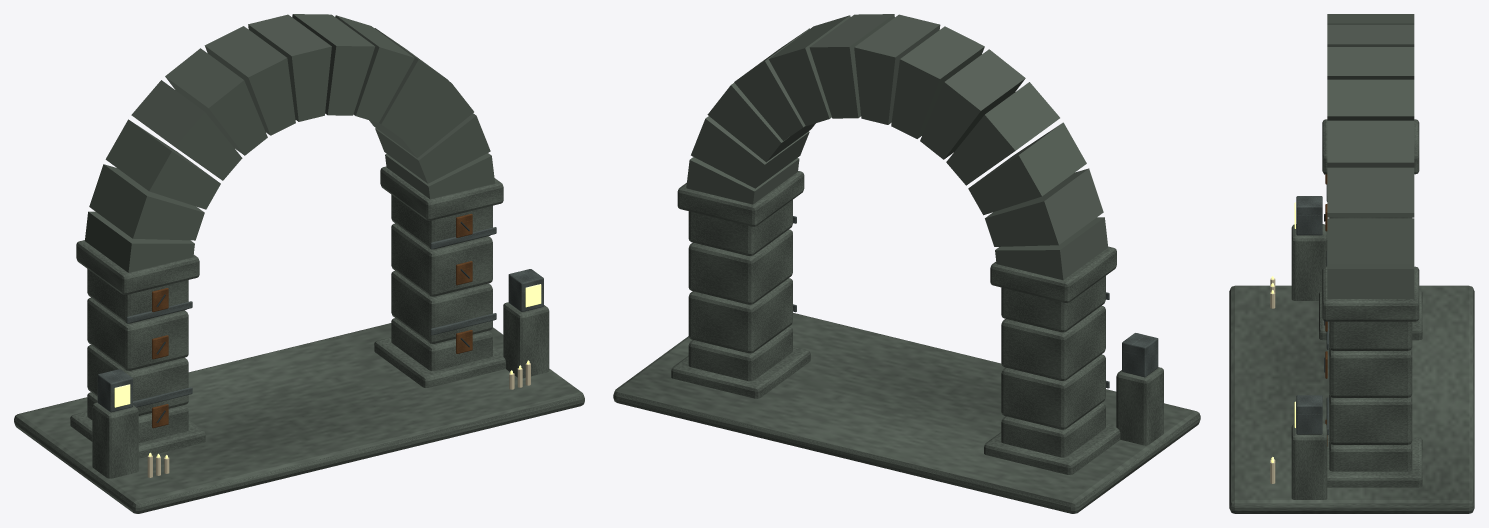
Rendered from portal_frame.glb.
3 views of the same model, side by side, from view 1: azimuth 30°, elevation 25°; view 2: azimuth 150°, elevation 25°; view 3: azimuth 270°, elevation 25° (orthographic). The views are drawn at different scales.
Visible parts, largest first — view 1: Threshold, Repair strap, Ceremonial inset, Gate lantern glass, Votive candle; view 2: Threshold, Repair strap; view 3: Threshold, Repair strap, Votive candle.
Part boxes in pixels (x1,y1,x2,y2): Threshold: (14,14,584,513); Repair strap: (97,227,543,412); Ceremonial inset: (152,213,472,428); Gate lantern glass: (114,284,541,458); Votive candle: (147,363,530,477); Threshold: (613,14,1200,513); Repair strap: (793,216,1158,388); Threshold: (1229,14,1474,513); Repair strap: (1296,184,1328,434); Votive candle: (1270,278,1275,483).
Bounding box in the file's own units: 5.5 × 4.36 × 2.6.
6 materials, 3 textured.
